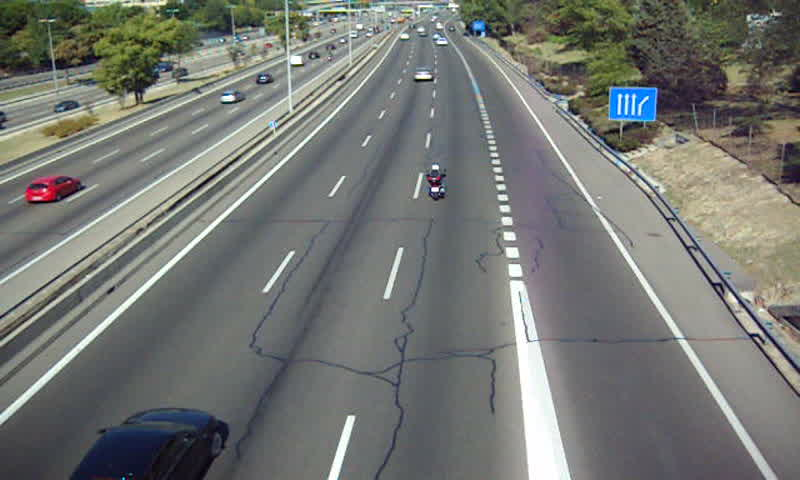car: (72, 410, 224, 480), (411, 68, 433, 84)
motorcycle: (426, 164, 448, 199)
